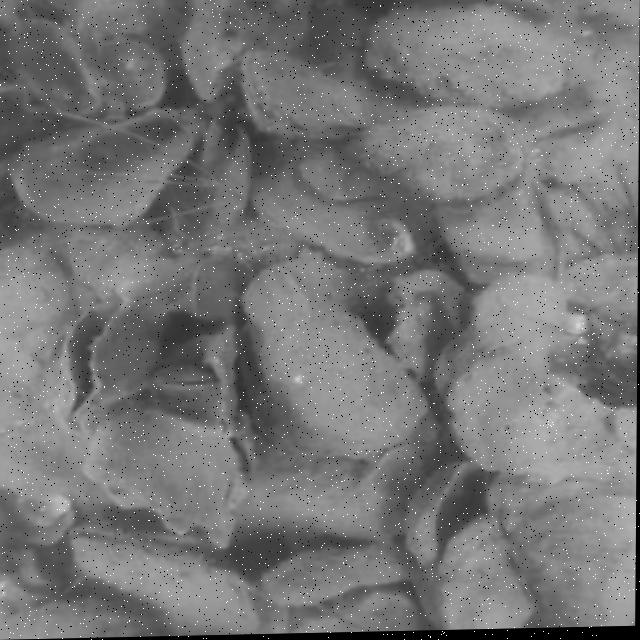Oyster-Closed: (80, 397, 261, 550), (240, 47, 373, 141)
Oyster-Indeterminate: (239, 252, 432, 458), (444, 351, 636, 485), (357, 0, 574, 109), (335, 104, 528, 203), (70, 536, 260, 634), (487, 479, 599, 628), (180, 0, 317, 108), (257, 544, 432, 610), (430, 533, 537, 630), (0, 595, 152, 640), (293, 587, 425, 633), (211, 128, 256, 230)
Oyster-Open: (49, 294, 164, 441)
